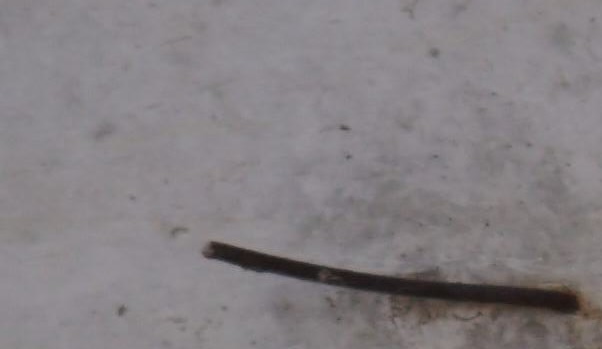Exposed reinforcement: (201, 240, 580, 316)
